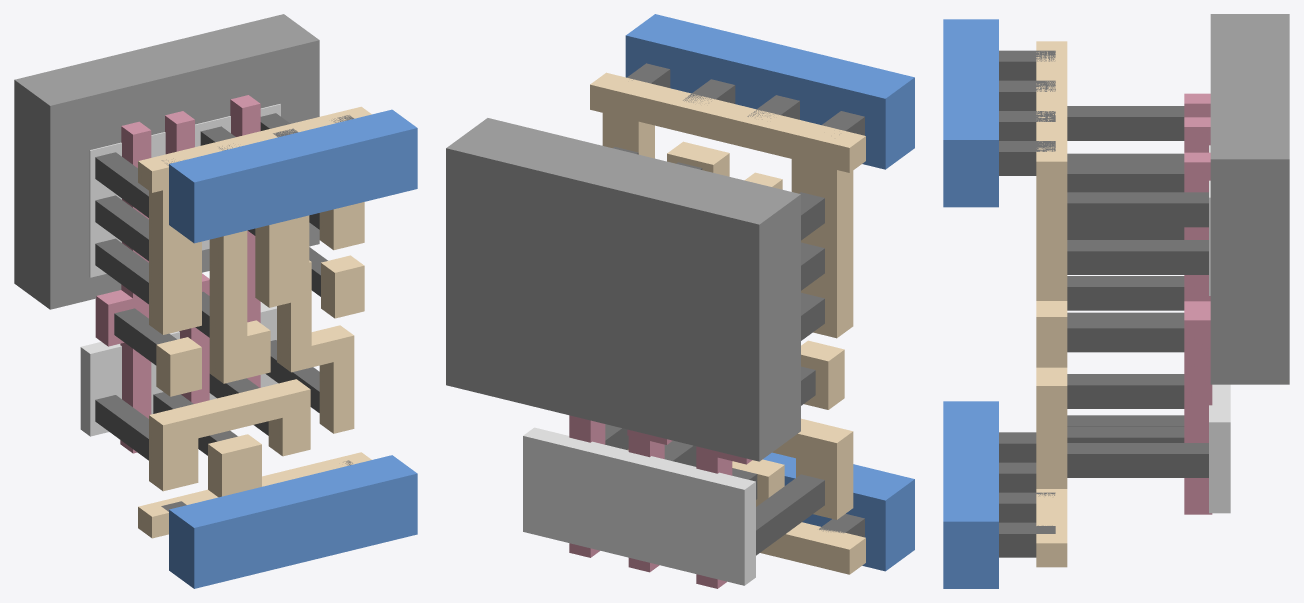
Rendered from sky130_fd_sc_hd__o21ai_1.gds.gltf.
The picture shows the model from 3 angles, left to right: view 1: azimuth 30°, elevation 25°; view 2: azimuth 150°, elevation 25°; view 3: azimuth 270°, elevation 25°; orthographic projection. The views are drawn at different scales.
Parts seen in each view (by area): view 1: sky130_fd_sc_hd__o21ai_1_li1, sky130_fd_sc_hd__o21ai_1_met1, sky130_fd_sc_hd__o21ai_1_nwell, sky130_fd_sc_hd__o21ai_1_licon, sky130_fd_sc_hd__o21ai_1_poly, sky130_fd_sc_hd__o21ai_1_diff; view 2: sky130_fd_sc_hd__o21ai_1_nwell, sky130_fd_sc_hd__o21ai_1_li1, sky130_fd_sc_hd__o21ai_1_diff, sky130_fd_sc_hd__o21ai_1_met1, sky130_fd_sc_hd__o21ai_1_licon, sky130_fd_sc_hd__o21ai_1_mcon, sky130_fd_sc_hd__o21ai_1_poly; view 3: sky130_fd_sc_hd__o21ai_1_licon, sky130_fd_sc_hd__o21ai_1_nwell, sky130_fd_sc_hd__o21ai_1_met1, sky130_fd_sc_hd__o21ai_1_li1, sky130_fd_sc_hd__o21ai_1_mcon, sky130_fd_sc_hd__o21ai_1_poly, sky130_fd_sc_hd__o21ai_1_diff.
Part boxes in pixels (x1=…): sky130_fd_sc_hd__o21ai_1_li1: x1=138, y1=106, x2=371, y2=538; sky130_fd_sc_hd__o21ai_1_met1: x1=169, y1=109, x2=417, y2=588; sky130_fd_sc_hd__o21ai_1_nwell: x1=14, y1=14, x2=319, y2=309; sky130_fd_sc_hd__o21ai_1_licon: x1=95, y1=113, x2=327, y2=460; sky130_fd_sc_hd__o21ai_1_poly: x1=95, y1=95, x2=260, y2=453; sky130_fd_sc_hd__o21ai_1_diff: x1=80, y1=104, x2=280, y2=436; sky130_fd_sc_hd__o21ai_1_nwell: x1=446, y1=118, x2=800, y2=461; sky130_fd_sc_hd__o21ai_1_li1: x1=590, y1=72, x2=865, y2=574; sky130_fd_sc_hd__o21ai_1_diff: x1=523, y1=427, x2=755, y2=585; sky130_fd_sc_hd__o21ai_1_met1: x1=625, y1=14, x2=914, y2=571; sky130_fd_sc_hd__o21ai_1_licon: x1=605, y1=147, x2=824, y2=555; sky130_fd_sc_hd__o21ai_1_mcon: x1=627, y1=63, x2=864, y2=537; sky130_fd_sc_hd__o21ai_1_poly: x1=569, y1=415, x2=752, y2=588; sky130_fd_sc_hd__o21ai_1_licon: x1=1067, y1=106, x2=1208, y2=477; sky130_fd_sc_hd__o21ai_1_nwell: x1=1210, y1=14, x2=1289, y2=384; sky130_fd_sc_hd__o21ai_1_met1: x1=943, y1=19, x2=998, y2=588; sky130_fd_sc_hd__o21ai_1_li1: x1=1036, y1=41, x2=1067, y2=567; sky130_fd_sc_hd__o21ai_1_mcon: x1=999, y1=50, x2=1055, y2=557; sky130_fd_sc_hd__o21ai_1_poly: x1=1184, y1=93, x2=1212, y2=514; sky130_fd_sc_hd__o21ai_1_diff: x1=1209, y1=145, x2=1230, y2=513.
Size of the model in its own units: 2.22 by 3.2 by 2.24.
